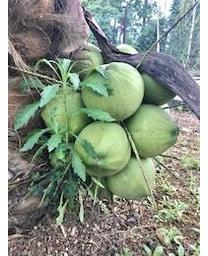coconut: (81, 62, 143, 122), (74, 120, 131, 177), (121, 103, 178, 158), (42, 87, 90, 140), (106, 149, 155, 199)
